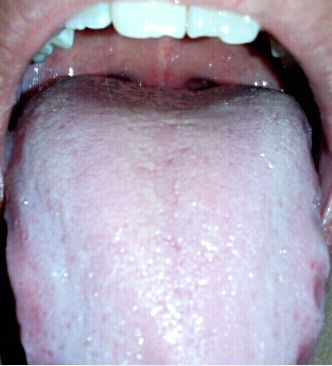baitaishe: (3, 76, 332, 366)
chihenshe: (3, 176, 48, 350), (294, 191, 332, 365)
